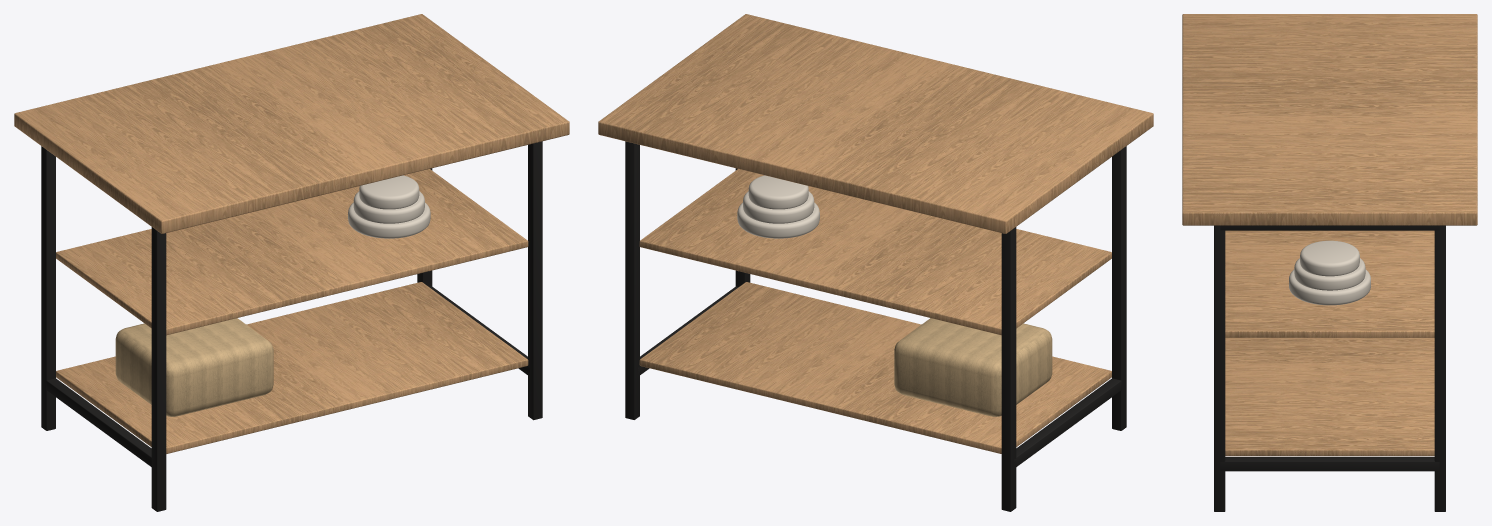
Rendered from island-oak.glb.
3 renders of one model, left to right at view 1: azimuth 30°, elevation 25°; view 2: azimuth 150°, elevation 25°; view 3: azimuth 270°, elevation 25°, orthographic.
Visible parts, largest first — view 1: top, shelf.001, shelf, basket, post, post.002, post.001, rail-low, bowl.002, bowl, bowl.001; view 2: top, shelf.001, shelf, basket, post.001, post.003, post, rail-low, bowl.002, bowl, bowl.001; view 3: top, shelf, shelf.001, post.002, post.003, rail-low.001, bowl.002, bowl, rail.001, bowl.001.
Boxes of the visible parts, x1,y1,x2,y2 form: top: [14, 14, 569, 233]; shelf.001: [56, 169, 528, 335]; shelf: [56, 282, 528, 453]; basket: [115, 318, 273, 416]; post: [151, 227, 166, 511]; post.002: [528, 141, 542, 420]; post.001: [41, 146, 55, 430]; rail-low: [44, 378, 153, 467]; bowl.002: [359, 175, 419, 209]; bowl: [348, 202, 430, 238]; bowl.001: [353, 191, 424, 223]; top: [598, 14, 1153, 233]; shelf.001: [639, 169, 1111, 335]; shelf: [639, 282, 1111, 453]; basket: [894, 318, 1052, 416]; post.001: [1001, 227, 1016, 511]; post.003: [625, 141, 639, 419]; post: [1112, 146, 1126, 430]; rail-low: [1014, 378, 1121, 466]; bowl.002: [748, 175, 808, 209]; bowl: [737, 202, 819, 238]; bowl.001: [743, 191, 814, 223]; top: [1182, 14, 1477, 225]; shelf: [1225, 337, 1434, 456]; shelf.001: [1225, 230, 1434, 337]; post.002: [1214, 225, 1225, 511]; post.003: [1434, 225, 1445, 511]; rail-low.001: [1220, 457, 1439, 471]; bowl.002: [1300, 240, 1359, 276]; bowl: [1289, 269, 1370, 305]; rail.001: [1220, 225, 1439, 230]; bowl.001: [1294, 258, 1365, 290].
Size of the model in its own units: 1.26 by 0.9 by 0.79.
Materials: 4 (2 with a texture image).
